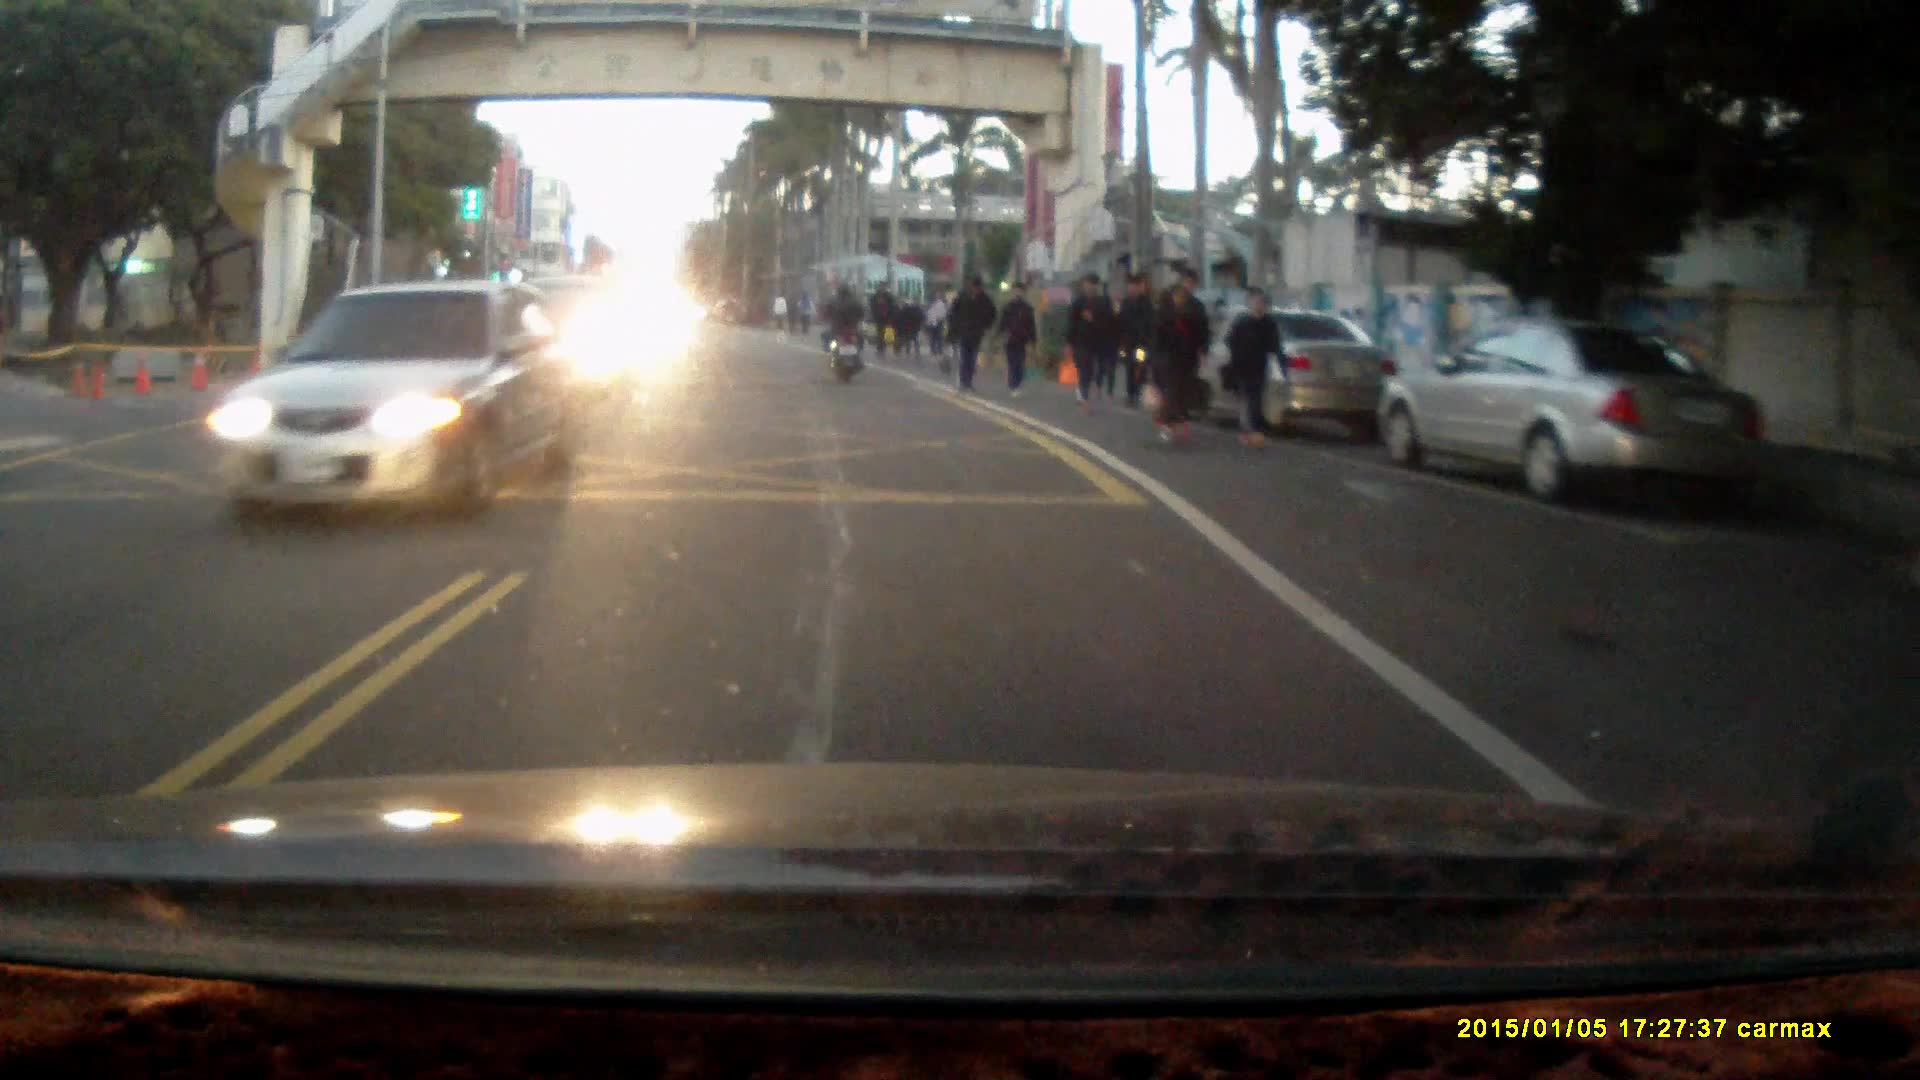pedestrian: (1222, 289, 1289, 450), (1150, 283, 1206, 440), (1063, 267, 1111, 410), (946, 272, 997, 395), (1118, 276, 1159, 410), (995, 279, 1041, 400), (867, 280, 896, 359), (922, 287, 950, 364), (891, 288, 920, 359)
rider: (819, 280, 869, 385)
vehicle: (205, 283, 588, 527), (1377, 316, 1771, 506), (1153, 313, 1405, 434)
